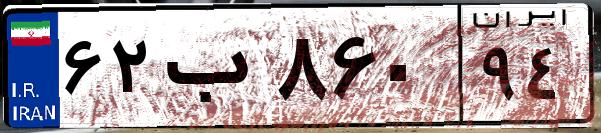0: (385, 28, 445, 110)
2: (110, 28, 158, 98)
4: (525, 38, 570, 115)
6: (330, 28, 385, 110), (57, 26, 110, 100)
8: (270, 28, 330, 110)
9: (475, 38, 525, 113)
ب: (158, 20, 270, 120)
